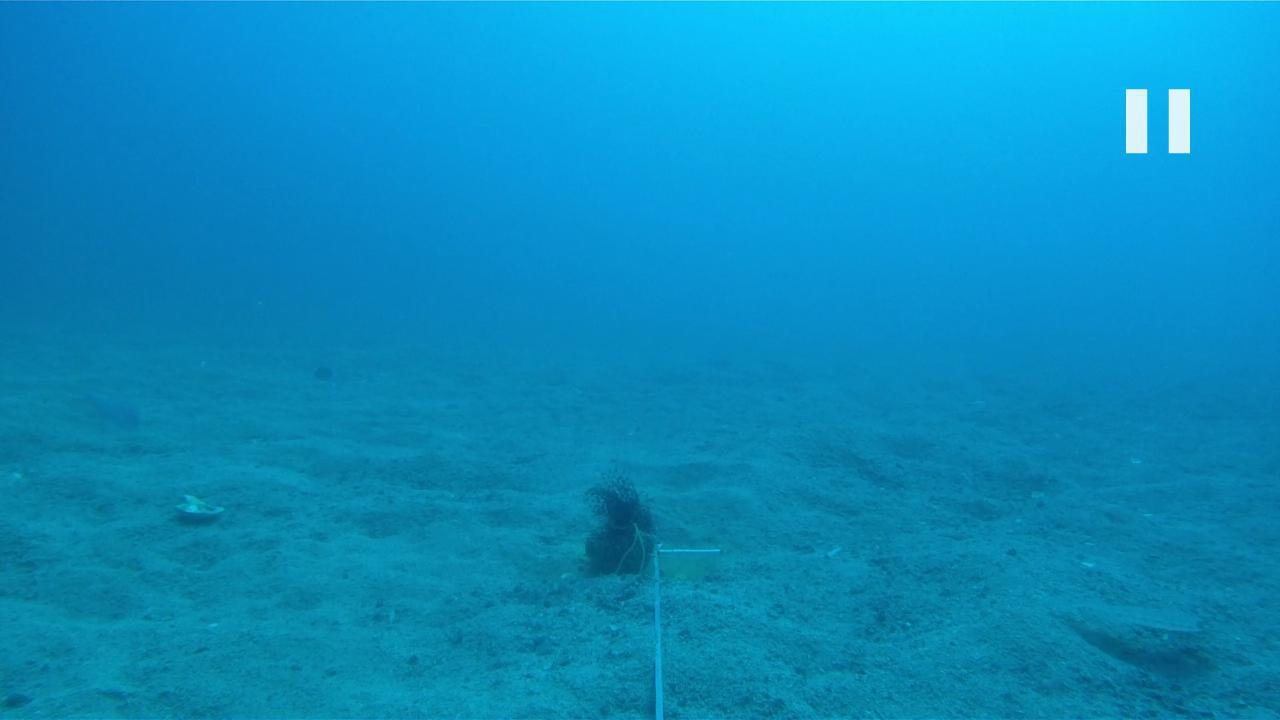bothus: (1080, 595, 1199, 642)
